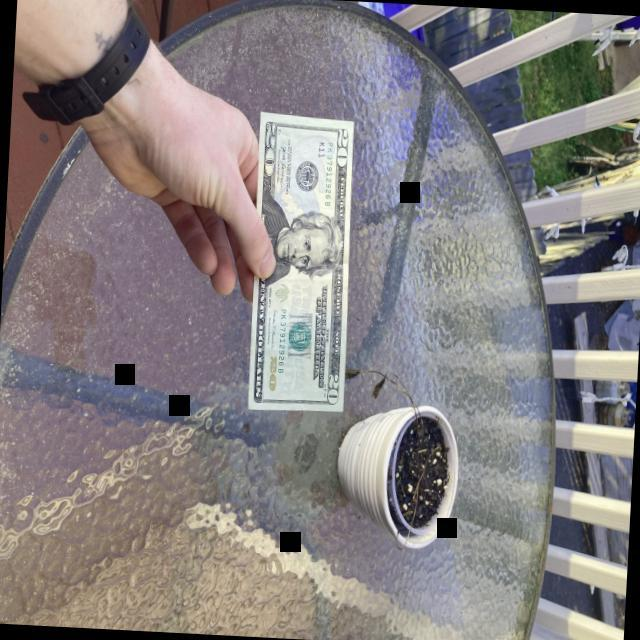twenty: (243, 111, 359, 416)
